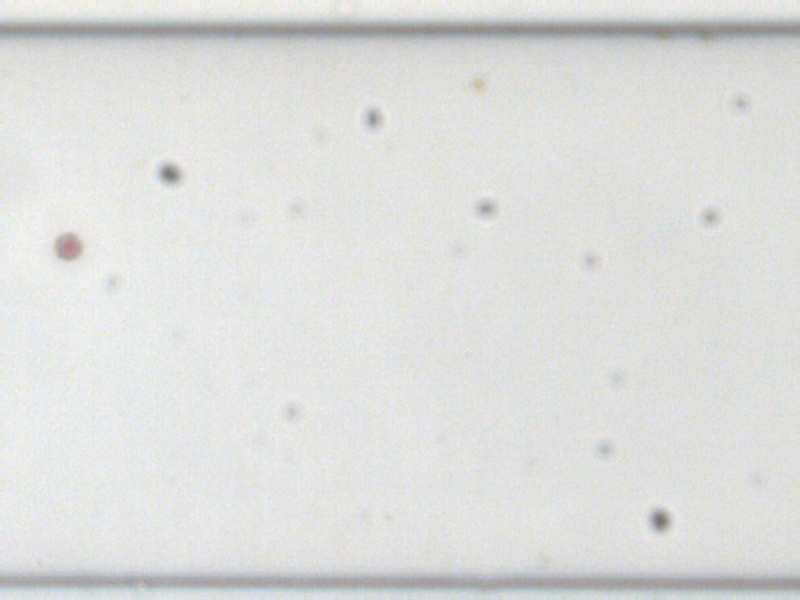Chlorella: (470, 72, 488, 89)
Porphyridium: (51, 229, 84, 262)
